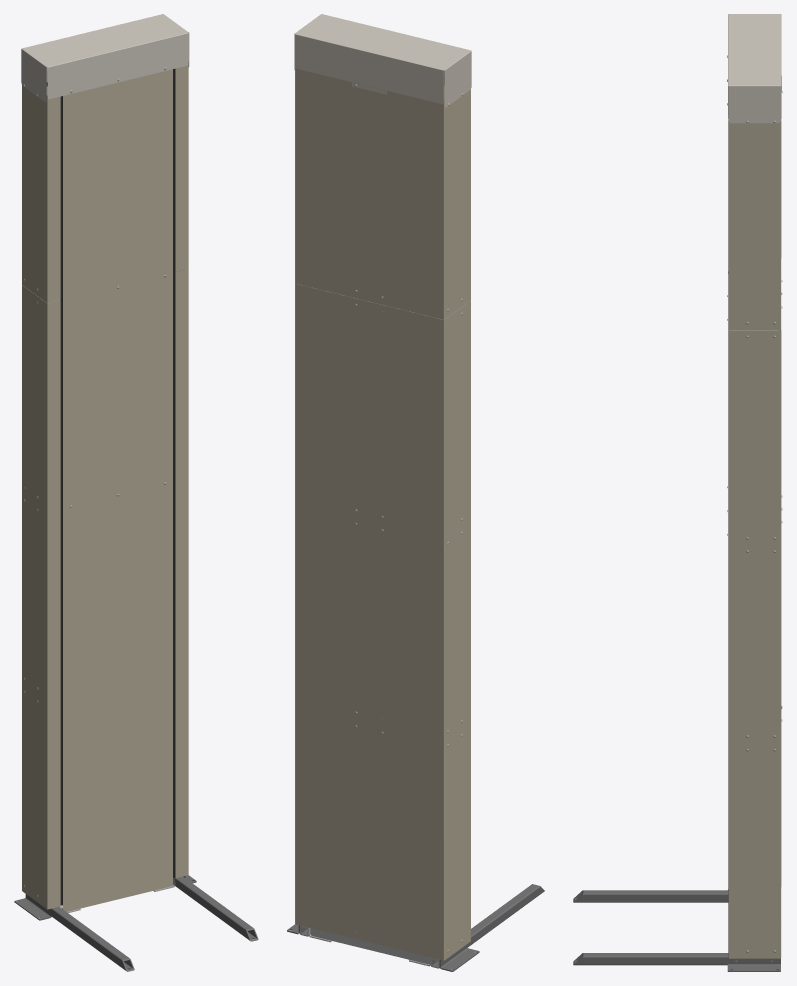
File: Harmar Tower.glb
3 views of the same model, side by side, from view 1: azimuth 30°, elevation 25°; view 2: azimuth 150°, elevation 25°; view 3: azimuth 270°, elevation 25° (orthographic). The views are drawn at different scales.
Visible parts, largest first — view 1: color-3, polished steel-5, color-7, color-4; view 2: color-3, polished steel-5, color-4, color; view 3: color-3, polished steel-5, color-4.
Boxes of the visible parts, x1=… form: color-3: x1=22, y1=65, x2=188, y2=911; polished steel-5: x1=21, y1=14, x2=188, y2=102; color-7: x1=60, y1=69, x2=175, y2=905; color-4: x1=14, y1=875, x2=258, y2=971; color-3: x1=295, y1=68, x2=470, y2=960; polished steel-5: x1=294, y1=14, x2=471, y2=107; color-4: x1=287, y1=884, x2=544, y2=971; color: x1=308, y1=928, x2=436, y2=966; color-3: x1=727, y1=120, x2=782, y2=958; polished steel-5: x1=728, y1=14, x2=781, y2=123; color-4: x1=573, y1=889, x2=780, y2=971.
Size of the model in its own units: 0.9683 by 5 by 1.08.
